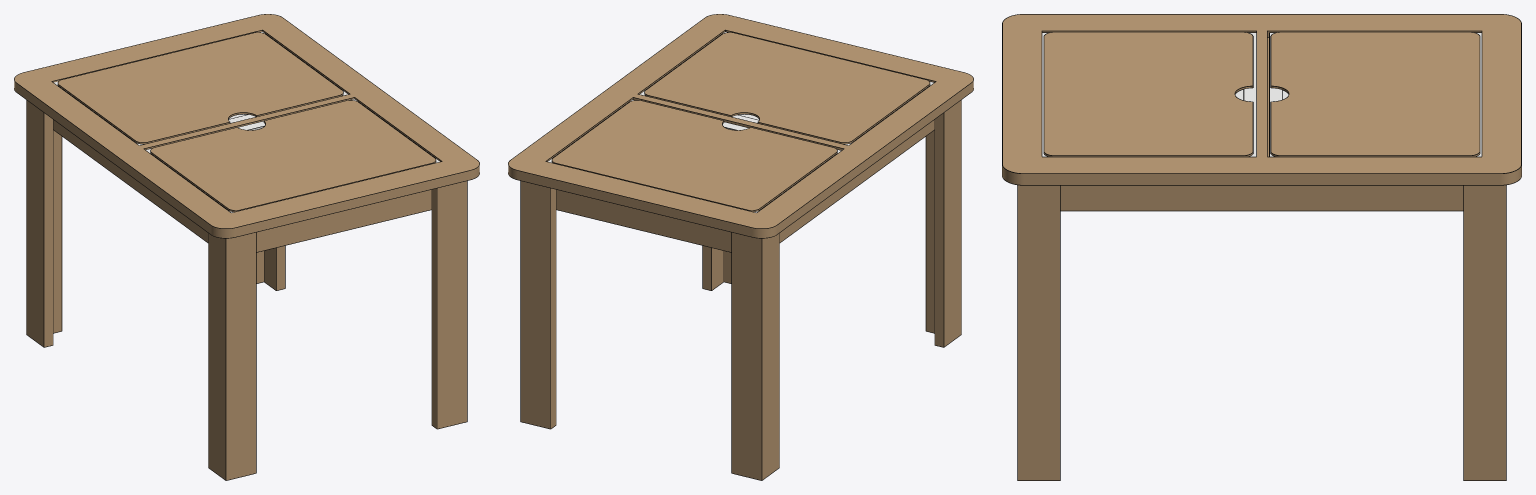
File: modelo-ar.glb
3 views of the same model, side by side, from view 1: azimuth 30°, elevation 25°; view 2: azimuth 150°, elevation 25°; view 3: azimuth 270°, elevation 25° (orthographic). The views are drawn at different scales.
Parts seen in each view (by area): view 1: Tapa, Tapa Batea 1, Tapa Batea 2, Pata 4, Pata 2, Pata 3, Faja Corta 2, Tapa_Bordes, Faja Larga 1, Pata 3_Bordes, Pata 1, Pata 4_Bordes (+3 smaller); view 2: Tapa, Tapa Batea 2, Tapa Batea 1, Pata 3, Pata 1, Pata 4, Faja corta 1, Tapa_Bordes, Faja Larga 1, Pata 4_Bordes, Pata 2, Pata 3_Bordes (+3 smaller); view 3: Tapa, Tapa Batea 1, Tapa Batea 2, Pata 1, Pata 2, Faja Larga 2, Tapa_Bordes, Tapa Batea 2_Bordes, Tapa Batea 1_Bordes, Batea 2, Faja Larga 2_Bordes, Pata 1_Bordes (+2 smaller).
Boxes of the visible parts, left/top/right/bottom form: Tapa: left=14, top=14, right=479, bottom=237; Tapa Batea 1: left=58, top=32, right=342, bottom=143; Tapa Batea 2: left=150, top=100, right=435, bottom=211; Pata 4: left=208, top=232, right=255, bottom=480; Pata 2: left=432, top=181, right=466, bottom=428; Pata 3: left=26, top=100, right=61, bottom=346; Faja Corta 2: left=256, top=189, right=431, bottom=251; Tapa_Bordes: left=14, top=14, right=479, bottom=238; Faja Larga 1: left=53, top=120, right=208, bottom=242; Pata 3_Bordes: left=26, top=100, right=62, bottom=347; Pata 1: left=256, top=246, right=284, bottom=290; Pata 4_Bordes: left=208, top=232, right=256, bottom=480; Tapa: left=508, top=14, right=973, bottom=237; Tapa Batea 2: left=645, top=32, right=929, bottom=143; Tapa Batea 1: left=552, top=100, right=837, bottom=211; Pata 3: left=732, top=232, right=779, bottom=480; Pata 1: left=521, top=181, right=555, bottom=428; Pata 4: left=926, top=100, right=961, bottom=346; Faja corta 1: left=556, top=189, right=731, bottom=251; Tapa_Bordes: left=508, top=14, right=973, bottom=238; Faja Larga 1: left=779, top=120, right=934, bottom=242; Pata 4_Bordes: left=925, top=100, right=961, bottom=347; Pata 2: left=703, top=246, right=731, bottom=290; Pata 3_Bordes: left=731, top=232, right=779, bottom=480; Tapa: left=1002, top=14, right=1521, bottom=184; Tapa Batea 1: left=1271, top=32, right=1479, bottom=156; Tapa Batea 2: left=1044, top=32, right=1252, bottom=156; Pata 1: left=1464, top=185, right=1505, bottom=480; Pata 2: left=1018, top=185, right=1059, bottom=480; Faja Larga 2: left=1060, top=185, right=1463, bottom=210; Tapa_Bordes: left=1002, top=14, right=1521, bottom=185; Tapa Batea 2_Bordes: left=1043, top=32, right=1253, bottom=156; Tapa Batea 1_Bordes: left=1270, top=32, right=1480, bottom=156; Batea 2: left=1042, top=33, right=1256, bottom=156; Faja Larga 2_Bordes: left=1061, top=210, right=1462, bottom=211; Pata 1_Bordes: left=1463, top=185, right=1506, bottom=480.
Size of the model in its own units: 0.5311 by 0.4891 by 0.7311.
